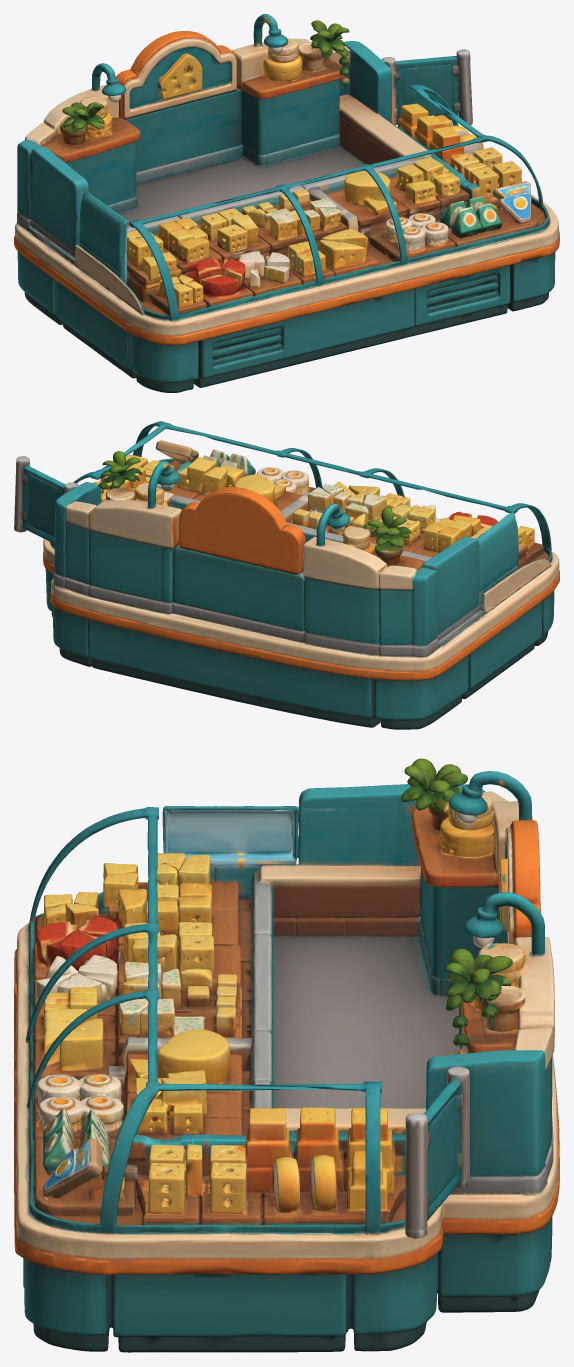
The model's file is CheeseDisplay.glb.
3 renders of one model, top to bottom at view 1: azimuth 30°, elevation 25°; view 2: azimuth 150°, elevation 25°; view 3: azimuth 270°, elevation 25°, orthographic. The views are drawn at different scales.
Visible parts, largest first — view 1: tripo_node_993acae5-227d-4645-8d50-4d0907f58f58; view 2: tripo_node_993acae5-227d-4645-8d50-4d0907f58f58; view 3: tripo_node_993acae5-227d-4645-8d50-4d0907f58f58.
Part boxes in pixels (x1,y1,x2,y2): tripo_node_993acae5-227d-4645-8d50-4d0907f58f58: (14, 14, 559, 392); tripo_node_993acae5-227d-4645-8d50-4d0907f58f58: (14, 421, 559, 729); tripo_node_993acae5-227d-4645-8d50-4d0907f58f58: (14, 758, 559, 1352).
Size of the model in its own units: 0.9802 by 0.4522 by 0.6499.
Materials: 1 (1 with a texture image).
